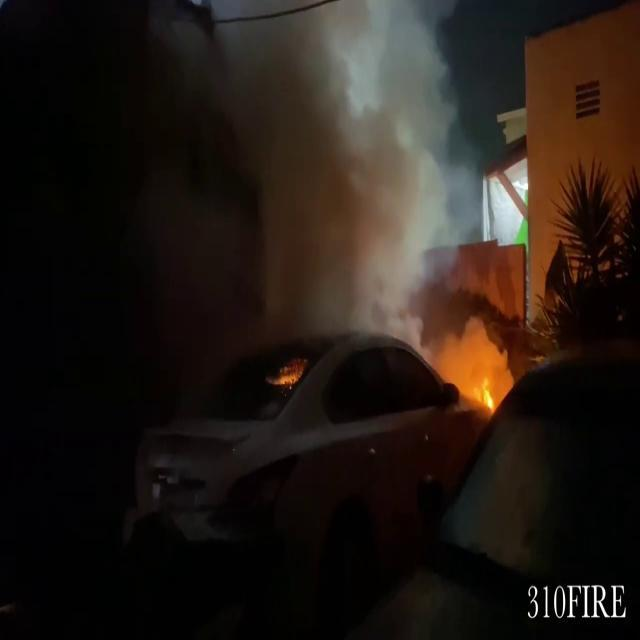Smoke: (133, 1, 414, 362)
